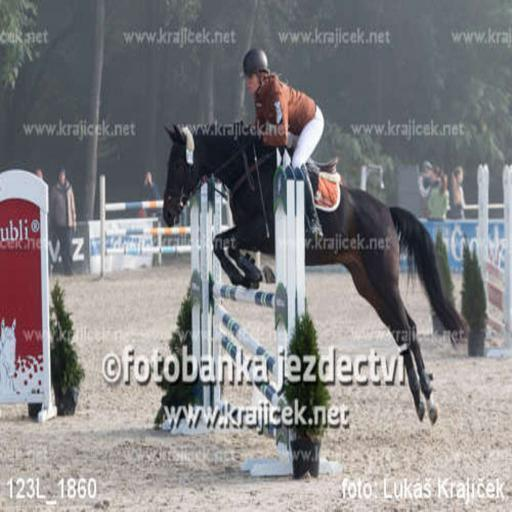horse: (163, 121, 467, 426)
